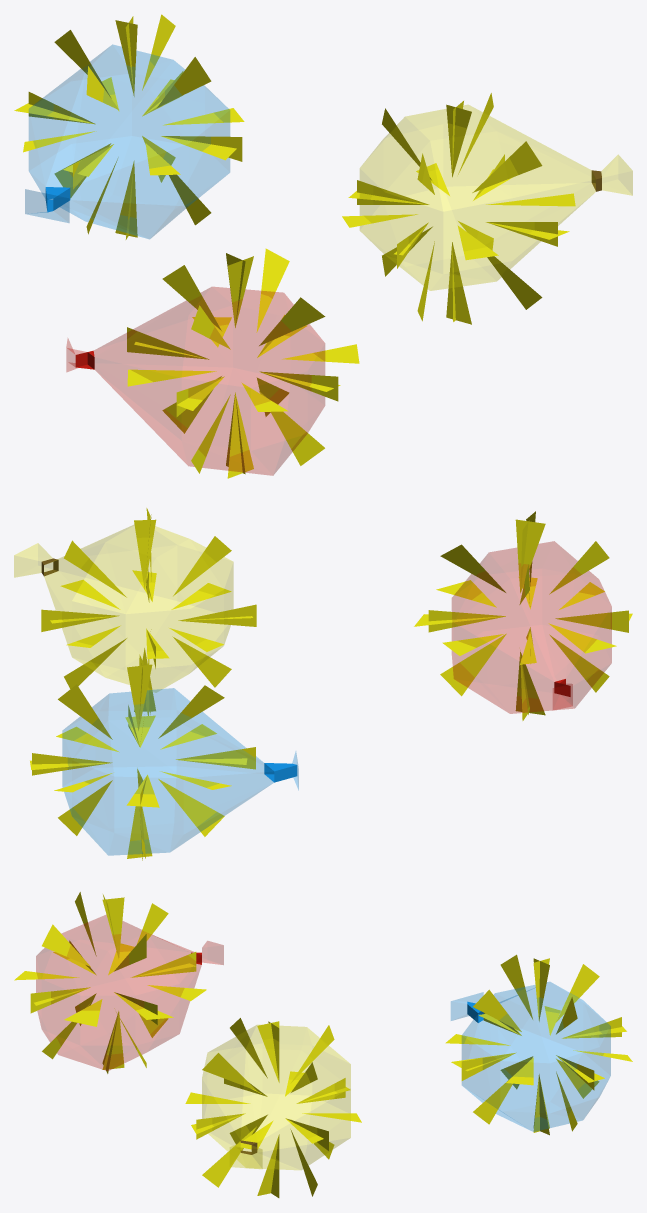
The model's file is model_loc_130_8.obj.
The picture shows the model from 3 angles, top to bottom: view 1: azimuth 30°, elevation 25°; view 2: azimuth 150°, elevation 25°; view 3: azimuth 270°, elevation 25°; orthographic projection. The views are drawn at different scales.
Parts seen in each view (by area): view 1: 2231; view 2: 2231; view 3: 2231.
Part boxes in pixels (x1,y1,x2,y2): 2231: (14, 14, 632, 478); 2231: (14, 508, 632, 860); 2231: (14, 892, 632, 1197).
Bounding box in the file's own units: 98 × 34 × 112.
